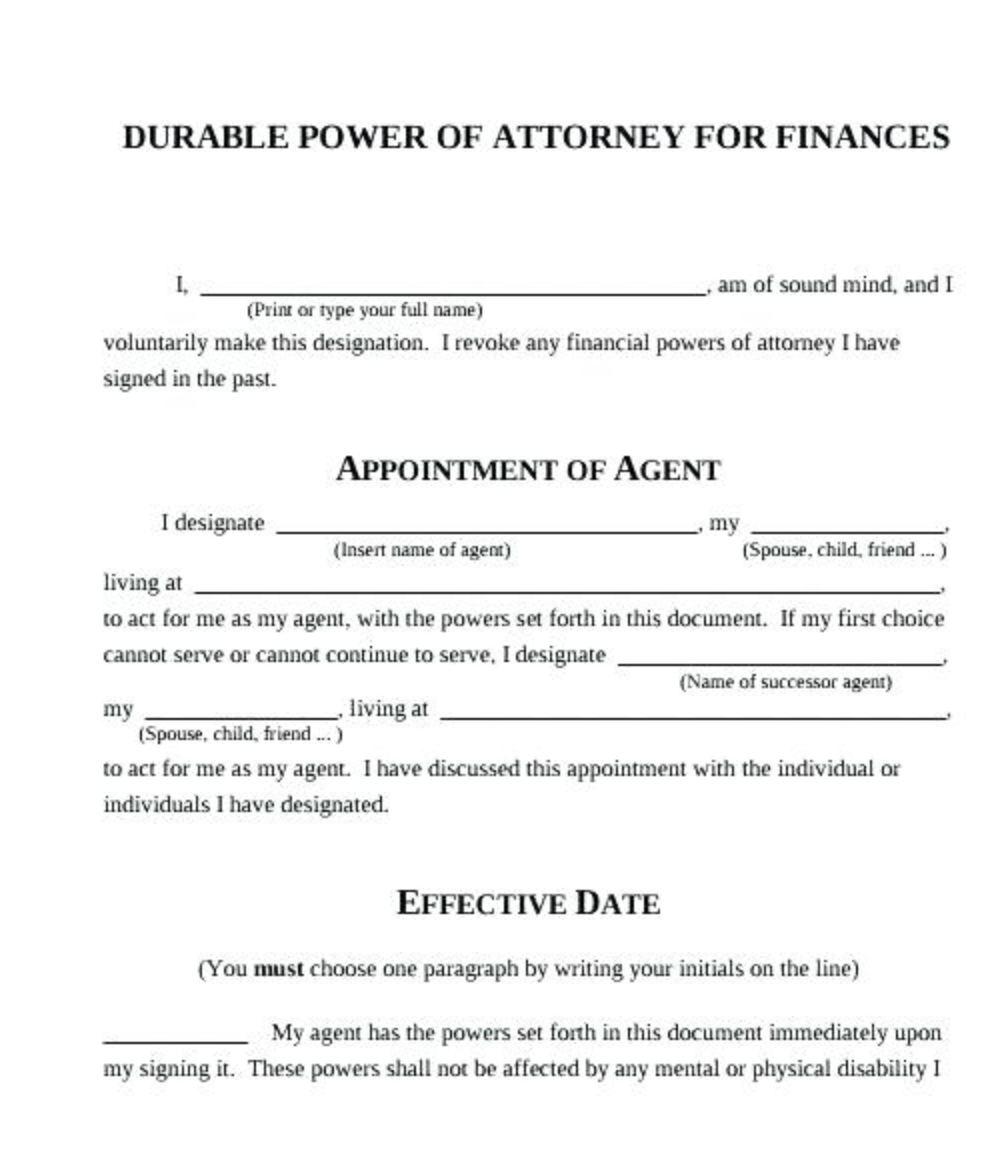textline: (186, 561, 948, 601), (192, 264, 713, 300), (435, 690, 952, 726), (272, 499, 708, 539), (609, 631, 952, 674), (748, 499, 950, 541), (139, 685, 347, 725), (92, 1007, 257, 1050)
